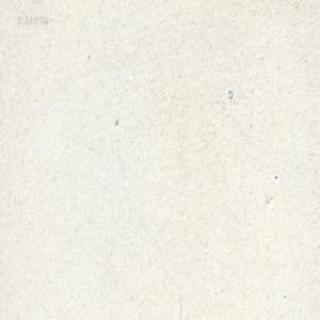Washertrack_idkeyframe: (226, 86, 232, 98)
